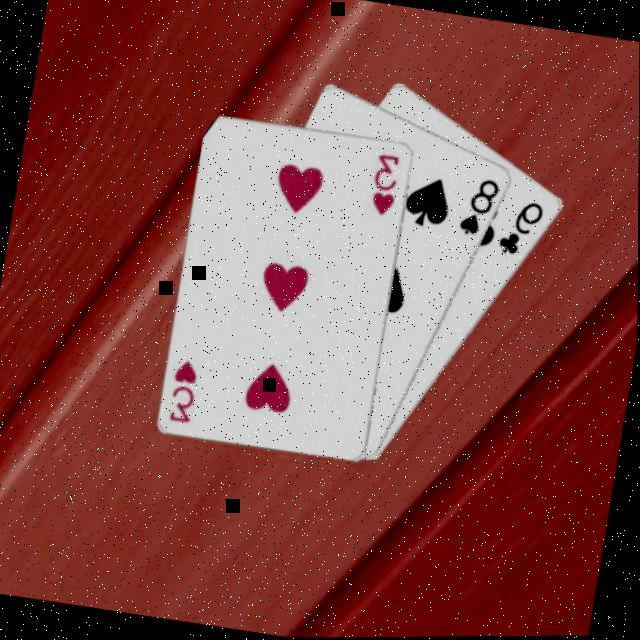3H: (164, 354, 203, 425), (364, 149, 403, 219)
8S: (453, 172, 502, 241)
9C: (492, 194, 547, 261)
